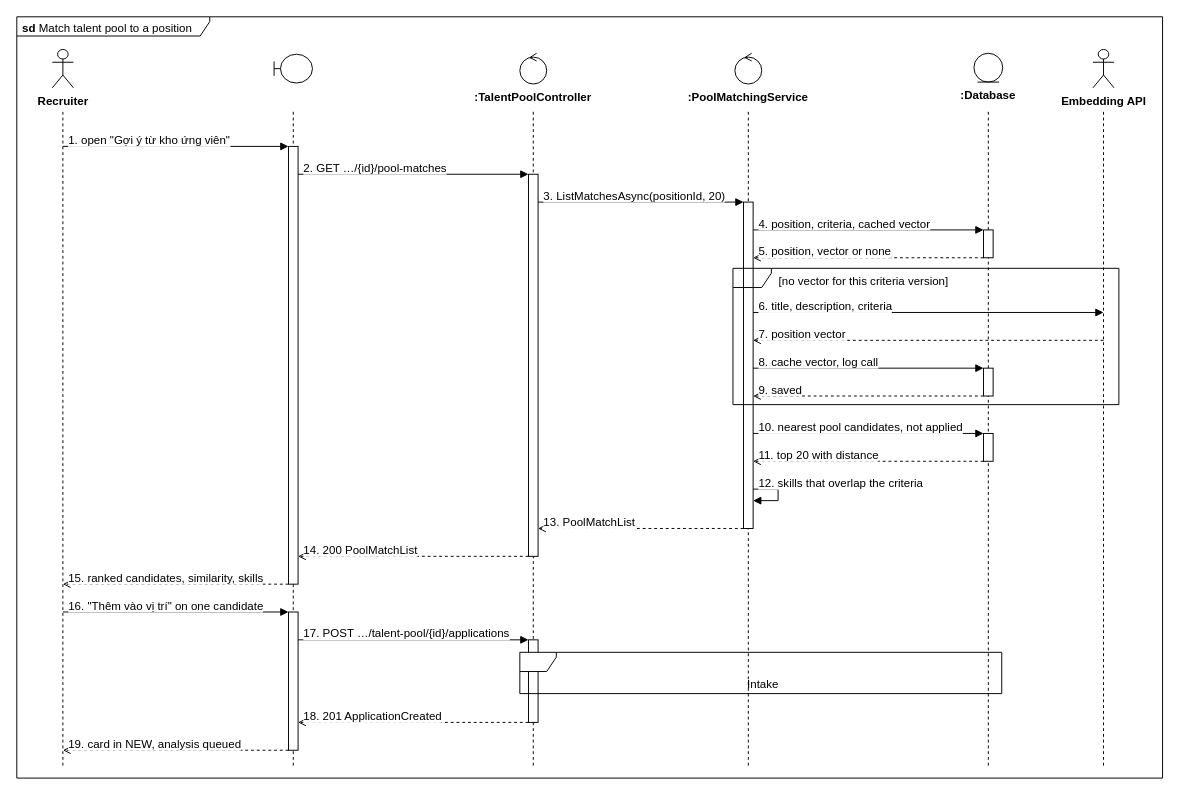
The diagram is 1180 pixels wide and 795 high, and some of its shapes have lost their labels. The shapes that lost their labels are listed below. From the top down, each one's box as (x1, y1, x2, y2) in pixels, then its label:
(273, 53, 312, 83): :Pool matches tab
(732, 267, 1119, 405): opt
(519, 651, 1002, 694): ref
